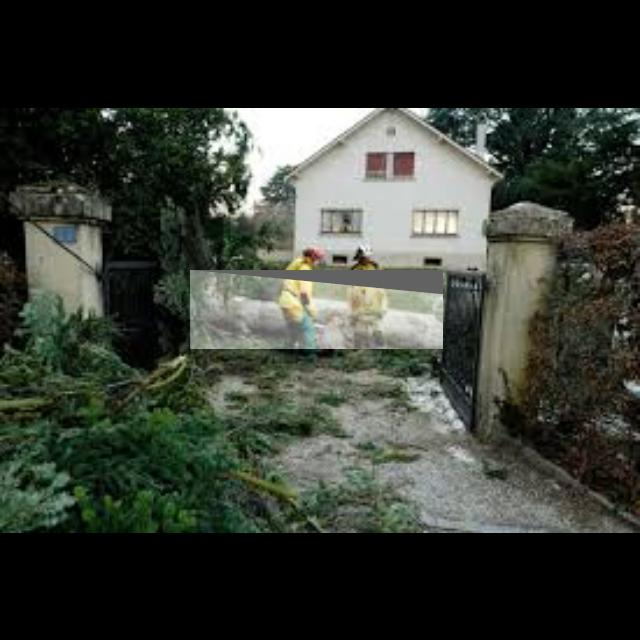Fallen Tree: (190, 270, 444, 350)
